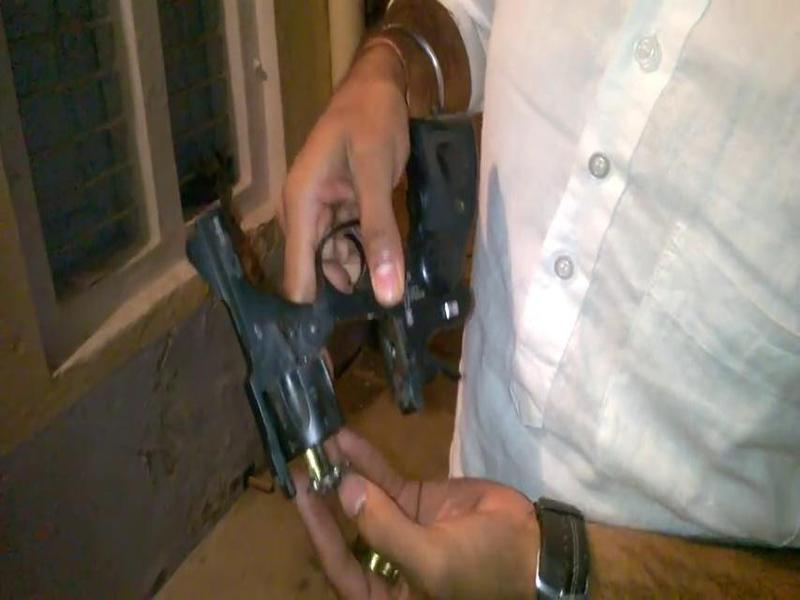Revolver: (148, 170, 370, 527)
